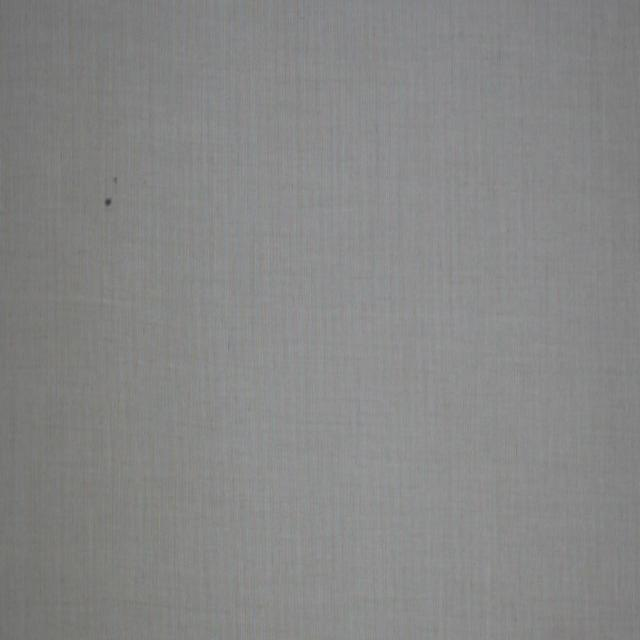dirty: (105, 197, 112, 207), (112, 178, 117, 185)
